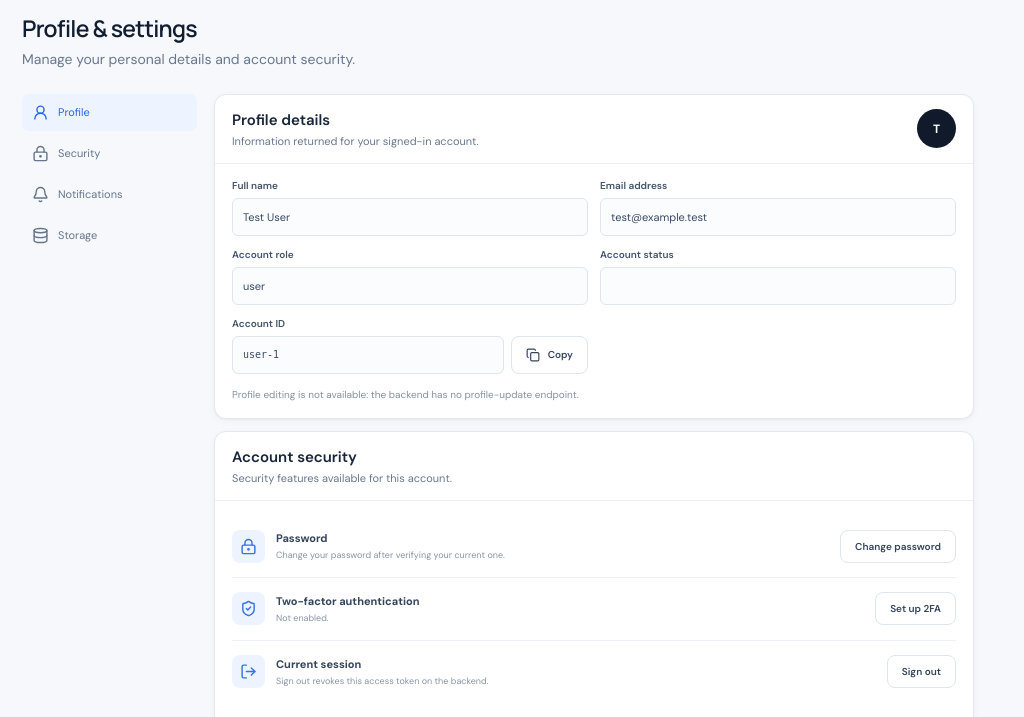
account security settings › reports backend change-password errors
Click the button "Change password".
click(898, 546)  # box [840,530,956,563]
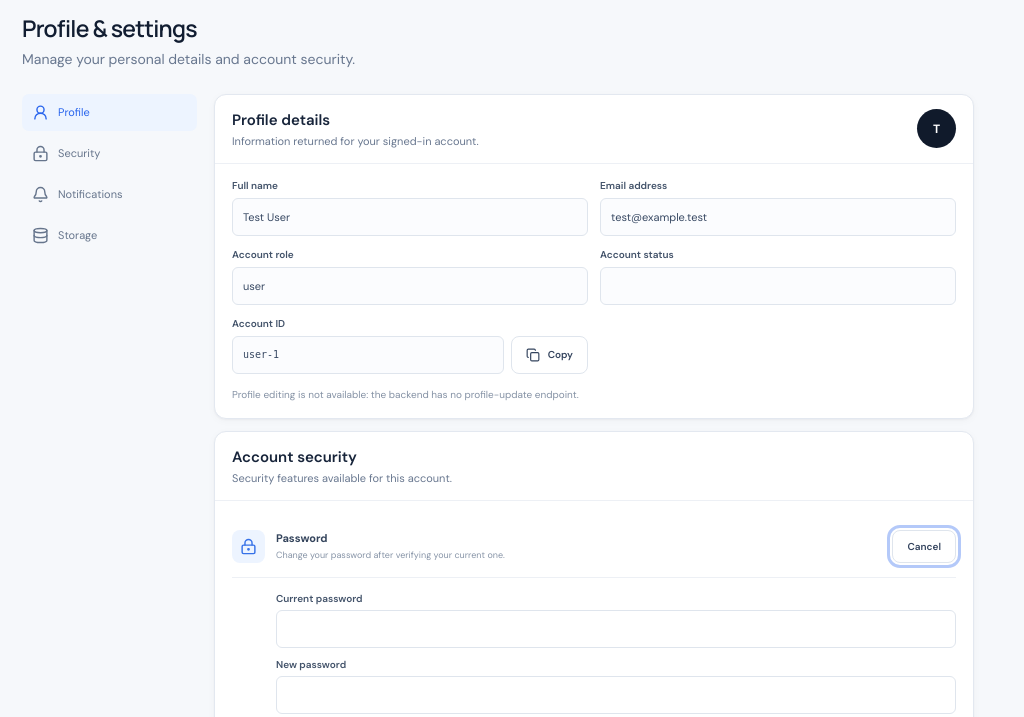
Type "incorrect-password" into the password field labelled "Current password".
click(616, 629); type("incorrect-password")  # box [276,610,956,648]
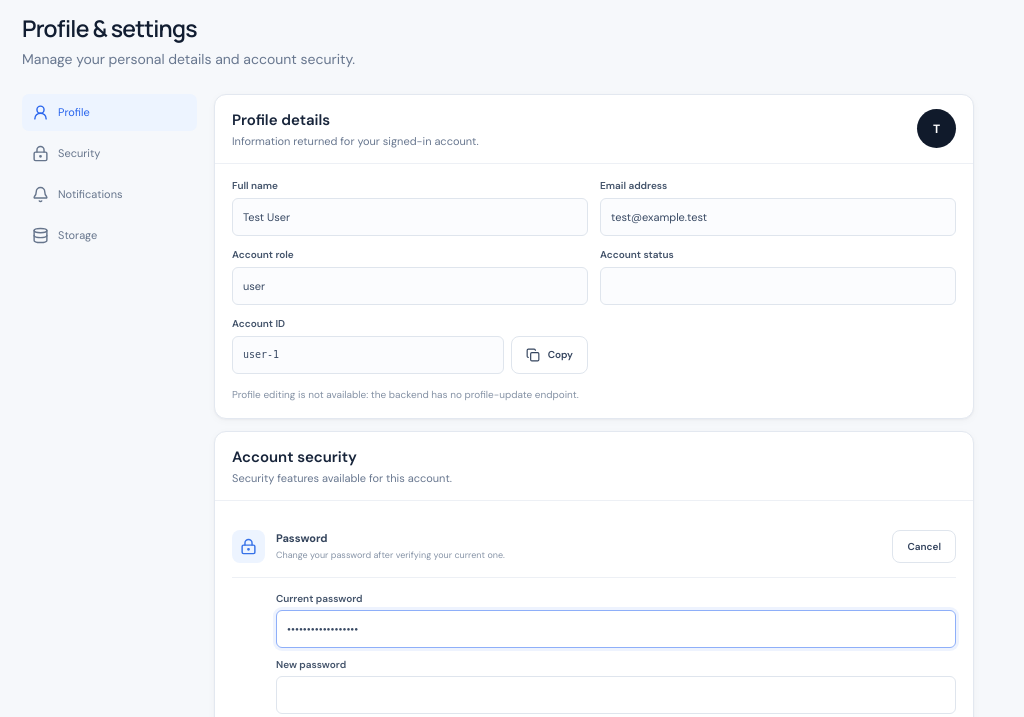
Type "A sufficiently long password" into the password field labelled "New password".
click(616, 695); type("A sufficiently long password")  # box [276,676,956,714]
(page scrolled)
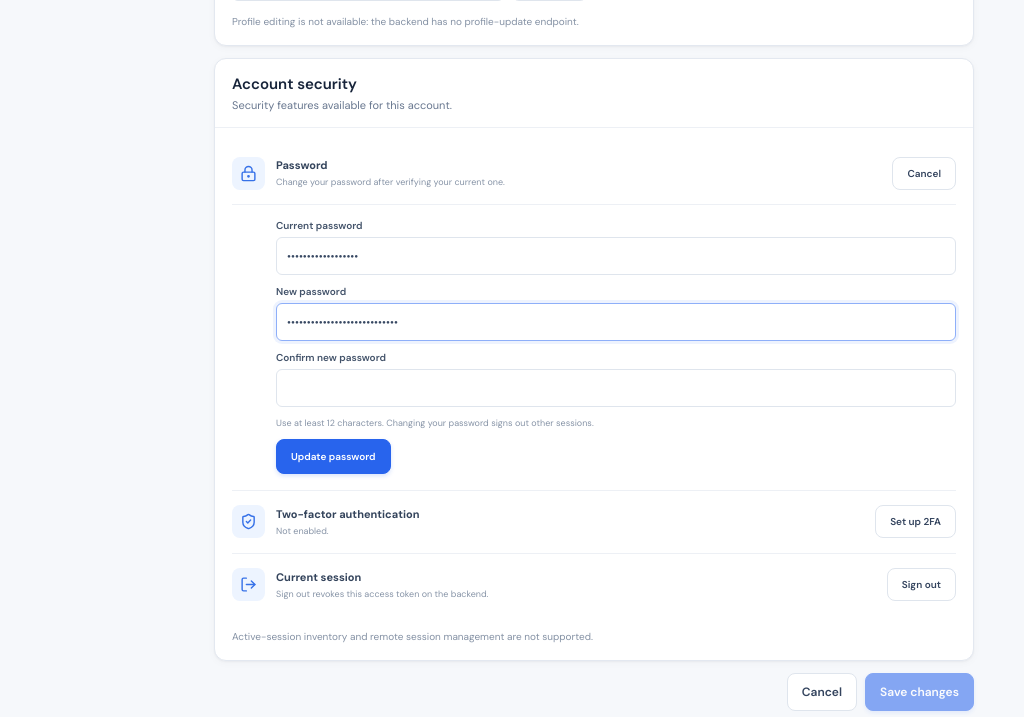
Type "A sufficiently long password" into the password field labelled "Confirm new password".
click(616, 388); type("A sufficiently long password")  # box [276,369,956,407]
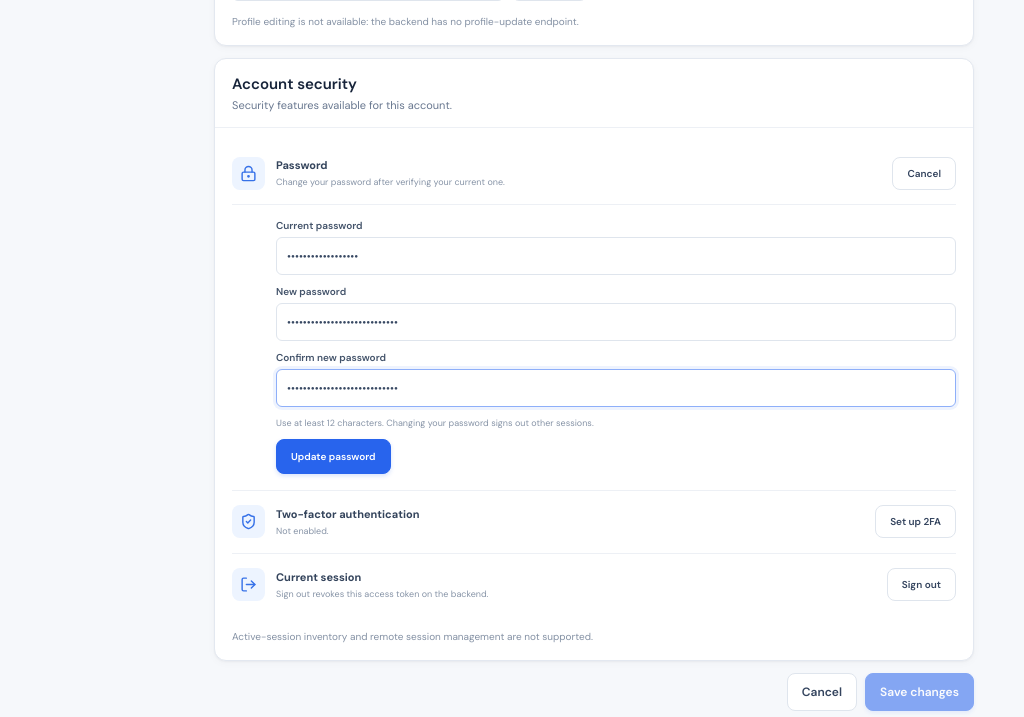
Click the button "Update password".
click(333, 456)  # box [276,439,390,474]
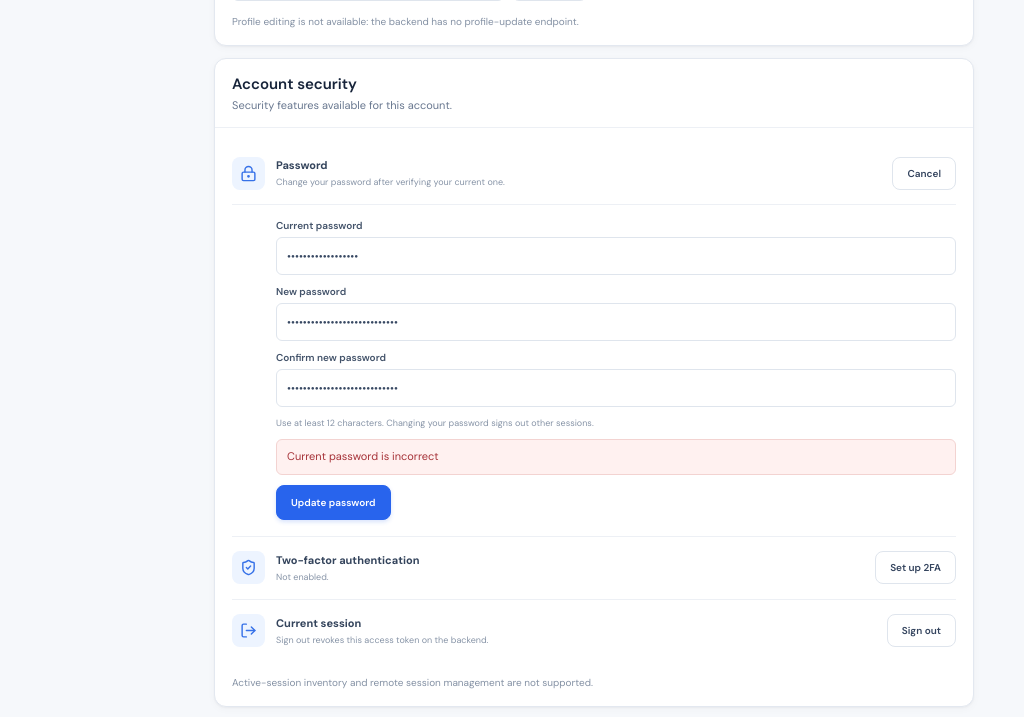
Now the message reads "Current password is incorrect", box [287,449,438,463]
